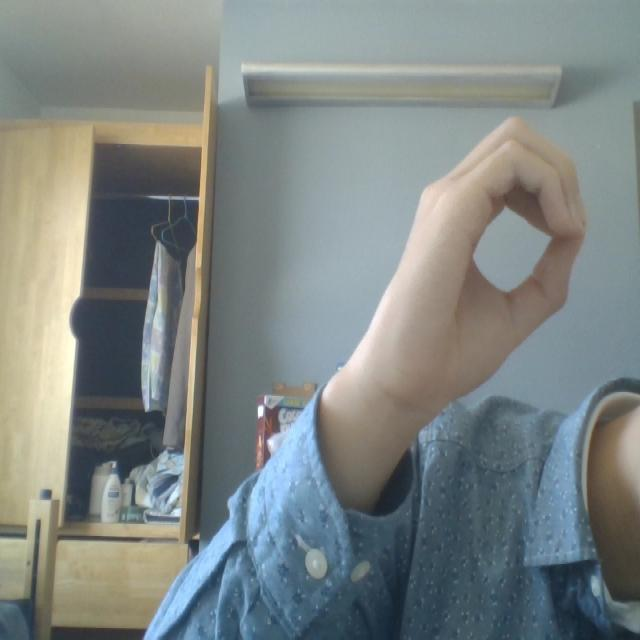O: (346, 90, 604, 463)
